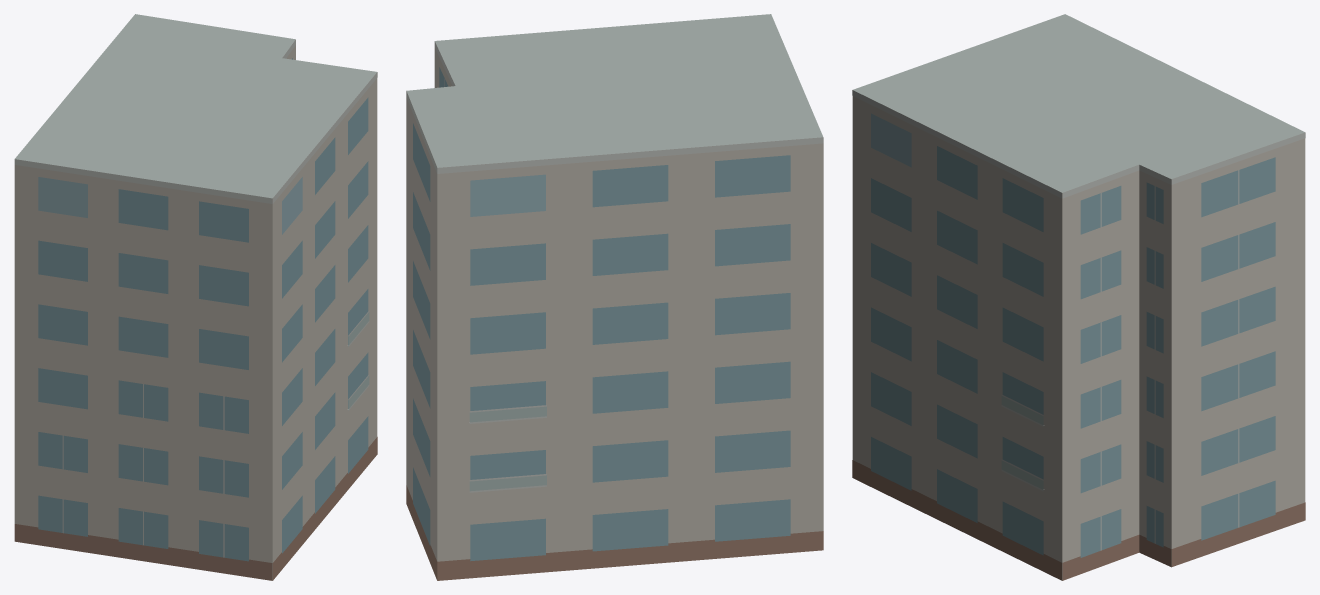
Rendered from survey-upis-32958921.glb.
3 views of the same model, side by side, from view 1: azimuth 30°, elevation 25°; view 2: azimuth 150°, elevation 25°; view 3: azimuth 270°, elevation 25° (orthographic). The views are drawn at different scales.
Visible parts, largest first — view 1: survey-upis-32958921.tmp; view 2: survey-upis-32958921.tmp; view 3: survey-upis-32958921.tmp.
Part boxes in pixels (bbox=[...]): survey-upis-32958921.tmp: bbox=[14, 14, 377, 580]; survey-upis-32958921.tmp: bbox=[406, 14, 823, 580]; survey-upis-32958921.tmp: bbox=[852, 14, 1305, 580].
Size of the model in its own units: 16.23 by 16.4 by 17.36.
